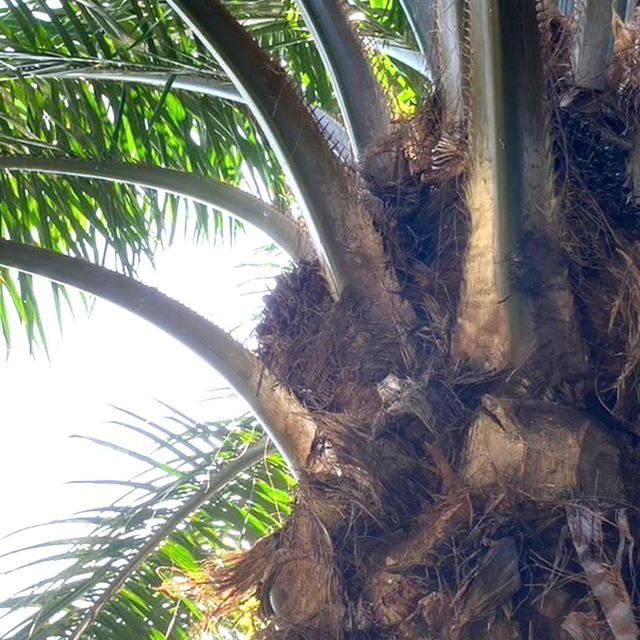ripe: (243, 254, 342, 416)
